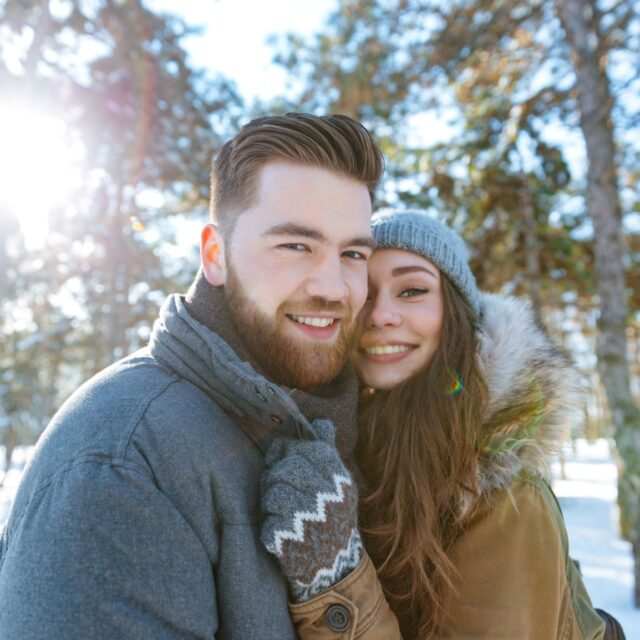human: (221, 158, 372, 381), (359, 238, 454, 398)
